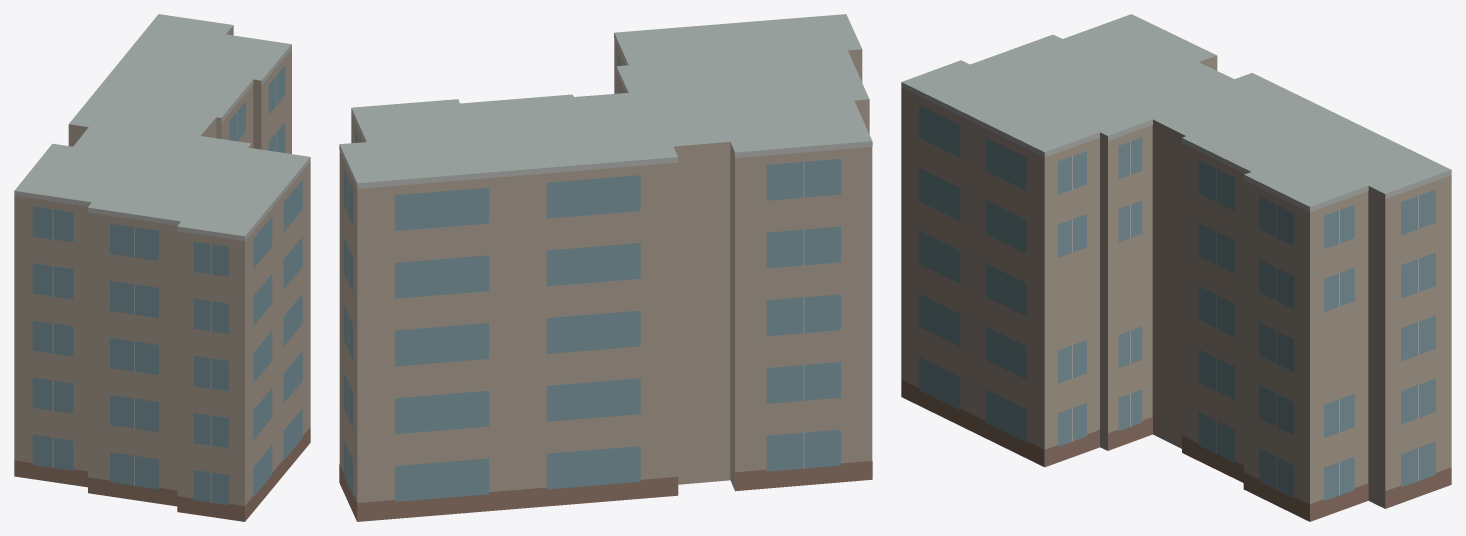
Rendered from survey-upis-32605335.glb.
3 renders of one model, left to right at view 1: azimuth 30°, elevation 25°; view 2: azimuth 150°, elevation 25°; view 3: azimuth 270°, elevation 25°, orthographic. The views are drawn at different scales.
Parts seen in each view (by area): view 1: survey-upis-32605335.tmp; view 2: survey-upis-32605335.tmp; view 3: survey-upis-32605335.tmp.
Boxes of the visible parts, x1,y1,x2,y2 form: survey-upis-32605335.tmp: [14, 14, 310, 521]; survey-upis-32605335.tmp: [339, 14, 872, 521]; survey-upis-32605335.tmp: [901, 14, 1451, 521].
Bounding box in the file's own units: 19.19 × 14.6 × 23.12.
